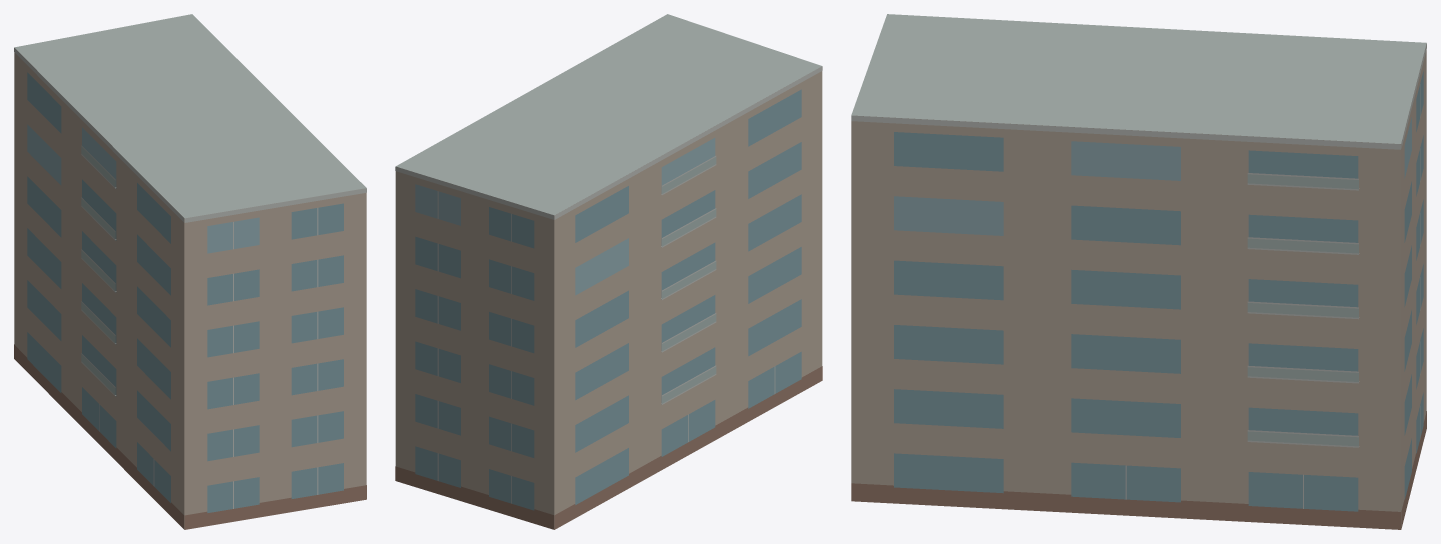
File: survey-upis-32740134.glb
3 renders of one model, left to right at view 1: azimuth 30°, elevation 25°; view 2: azimuth 150°, elevation 25°; view 3: azimuth 270°, elevation 25°, orthographic. The views are drawn at different scales.
Parts seen in each view (by area): view 1: survey-upis-32740134.tmp; view 2: survey-upis-32740134.tmp; view 3: survey-upis-32740134.tmp.
Part boxes in pixels (x1,y1,x2,y2): survey-upis-32740134.tmp: (14, 14, 366, 529); survey-upis-32740134.tmp: (395, 14, 822, 529); survey-upis-32740134.tmp: (851, 14, 1426, 529).
Size of the model in its own units: 11.95 by 16.5 by 22.32.
